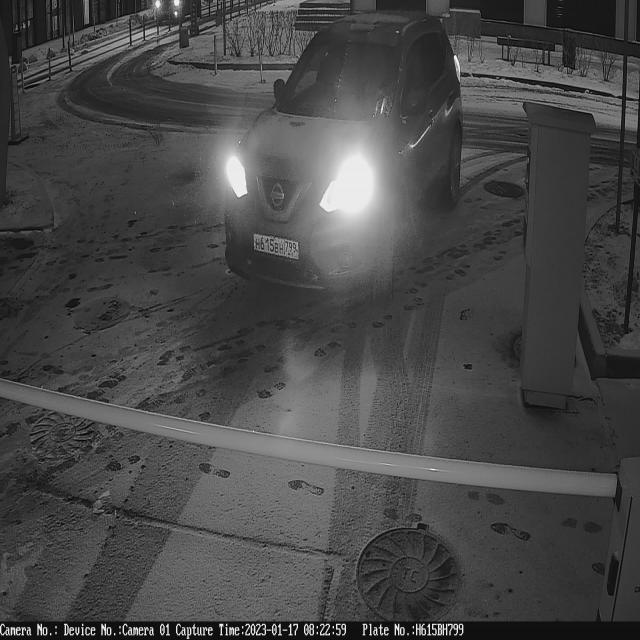car-plate-numbers: (252, 226, 305, 268)
